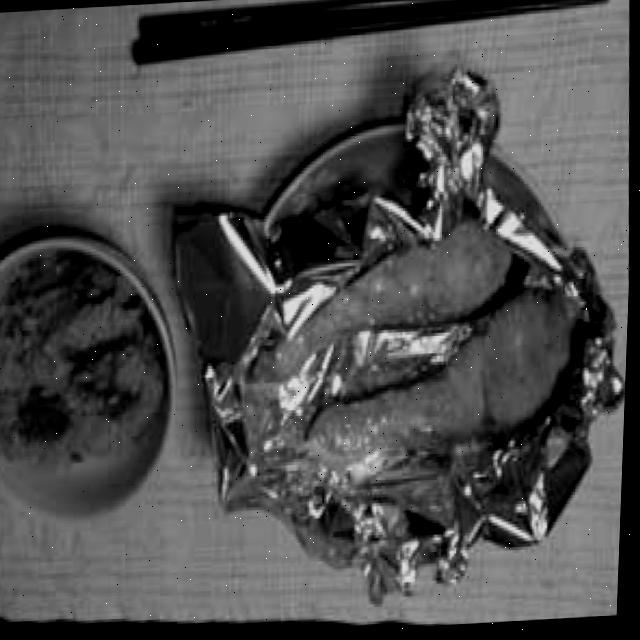熟制海鲜: (222, 193, 600, 506)
